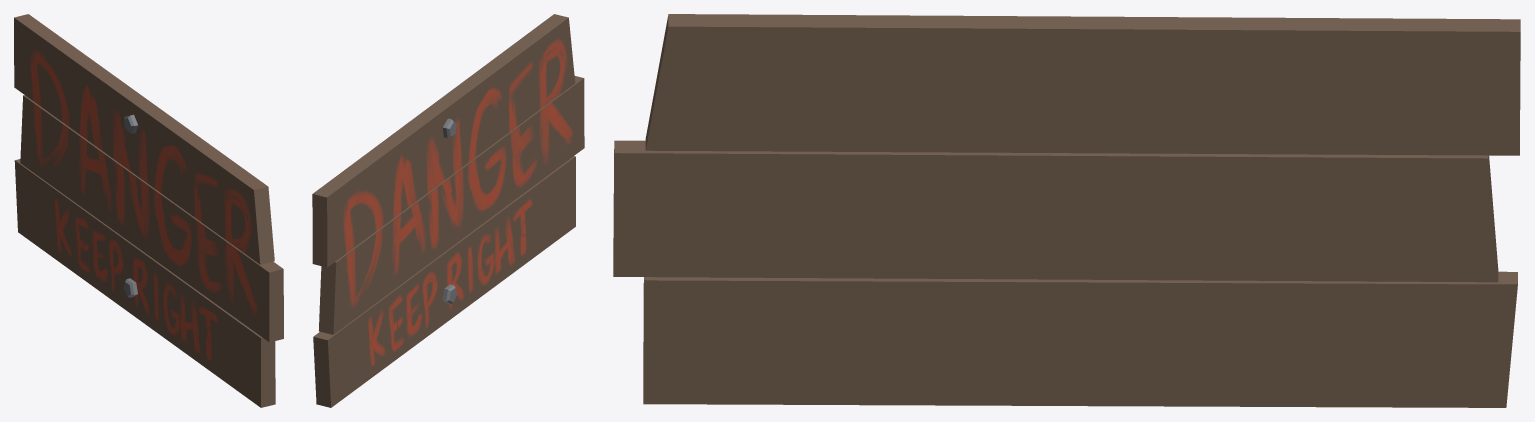
Rendered from Sign_Hanging.fbx.
3 views of the same model, side by side, from view 1: azimuth 30°, elevation 25°; view 2: azimuth 150°, elevation 25°; view 3: azimuth 270°, elevation 25° (orthographic). The views are drawn at different scales.
Parts seen in each view (by area): view 1: Sign_Hanging; view 2: Sign_Hanging; view 3: Sign_Hanging.
Boxes of the visible parts, x1=… form: Sign_Hanging: x1=14, y1=14, x2=283, y2=407; Sign_Hanging: x1=312, y1=14, x2=584, y2=407; Sign_Hanging: x1=613, y1=14, x2=1520, y2=407.
Size of the model in its own units: 3.85 by 38.51 by 83.05.
